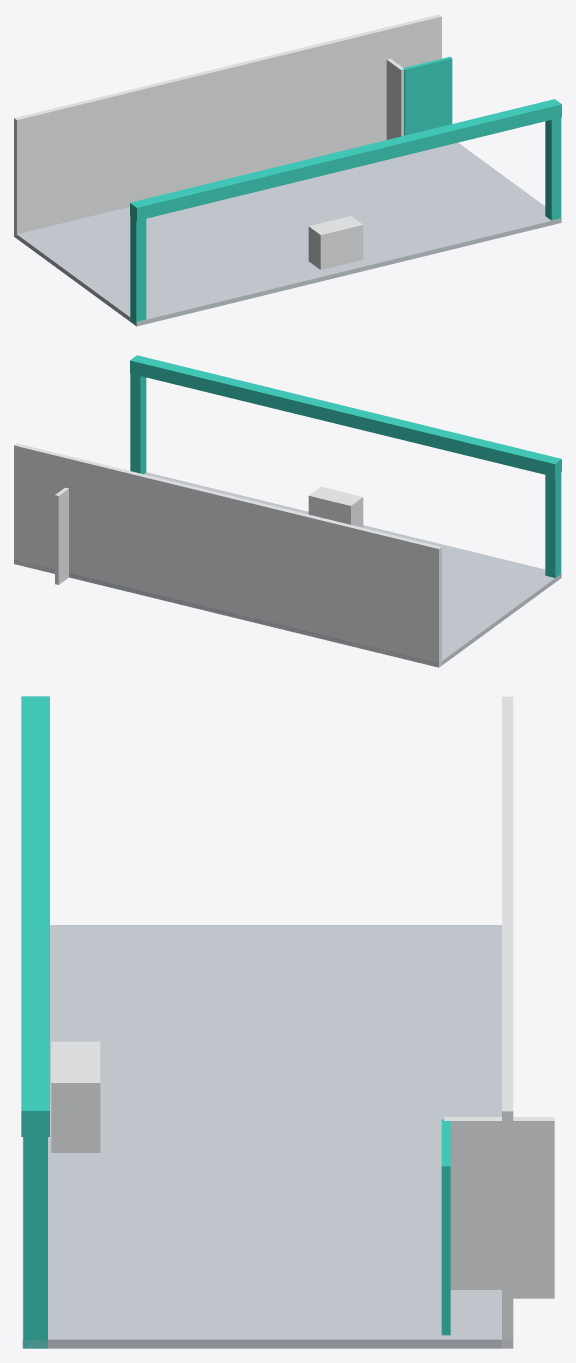
3 views of the same model, one above another, from view 1: azimuth 30°, elevation 25°; view 2: azimuth 150°, elevation 25°; view 3: azimuth 270°, elevation 25° (orthographic). The views are drawn at different scales.
Parts seen in each view (by area): view 1: Exhibition Booth Concept; view 2: Exhibition Booth Concept; view 3: Exhibition Booth Concept.
Boxes of the visible parts, <box> form: Exhibition Booth Concept: <box>14,14,561,326</box>; Exhibition Booth Concept: <box>14,355,561,667</box>; Exhibition Booth Concept: <box>21,696,554,1348</box>.
Bounding box in the file's own units: 12 × 3.2 × 6.52.
